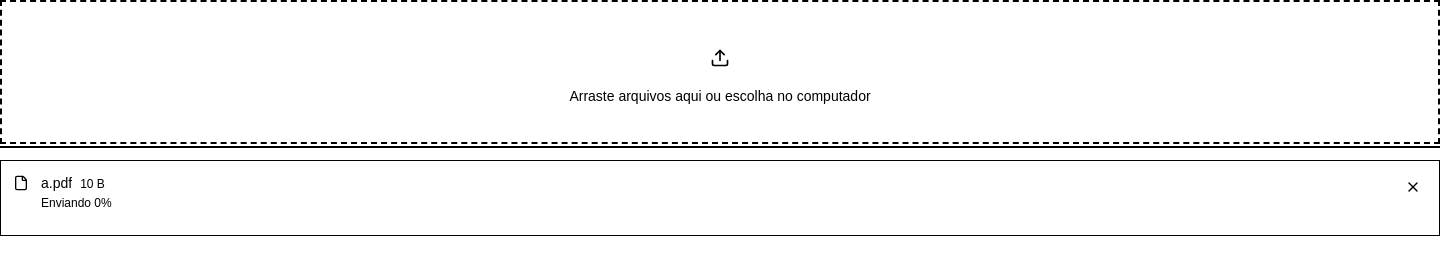
Test case: FileUpload: progresso, cancelar e sinal › remover um envio em andamento também aborta o signal
Earlier steps of the test are not shown.
Click the button named "Cancelar o envio de a.pdf": (1413, 187) [1399, 173, 1427, 201]
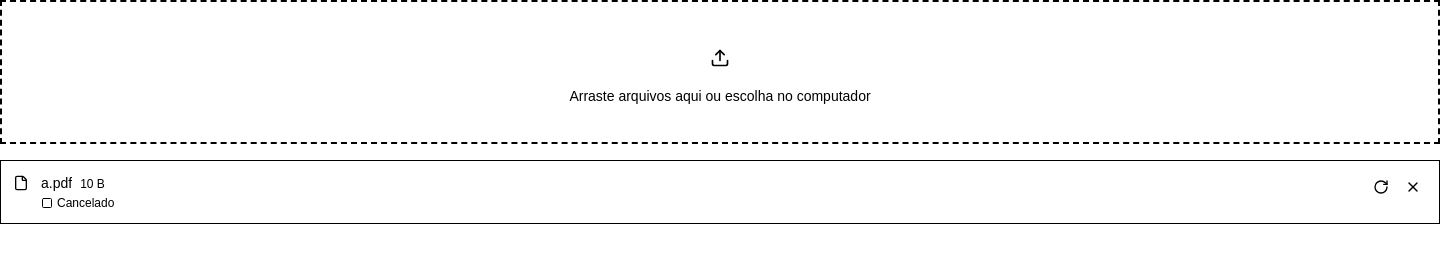
Click the button named "Remover a.pdf da lista": (1413, 187) [1399, 173, 1427, 201]
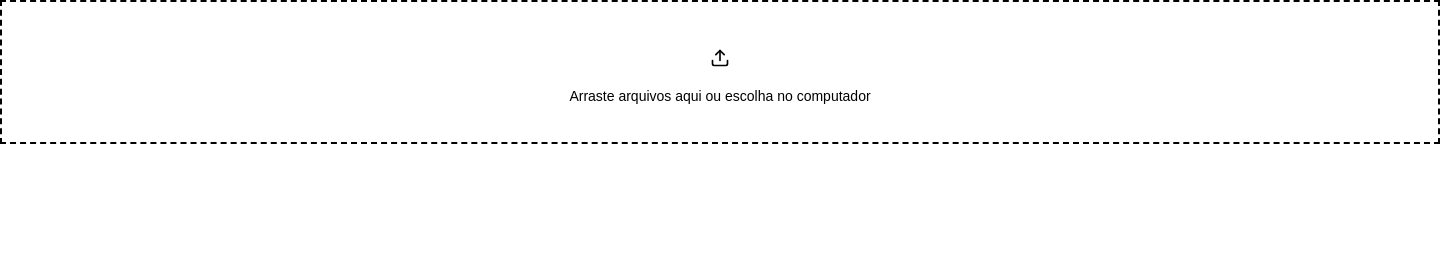
Expected: the list item "a.pdf 10 B Cancelado" is gone
